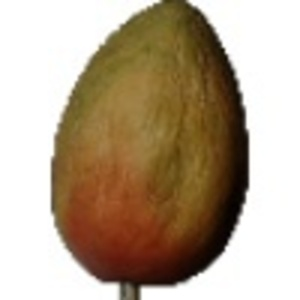mamão: (39, 5, 255, 291)
